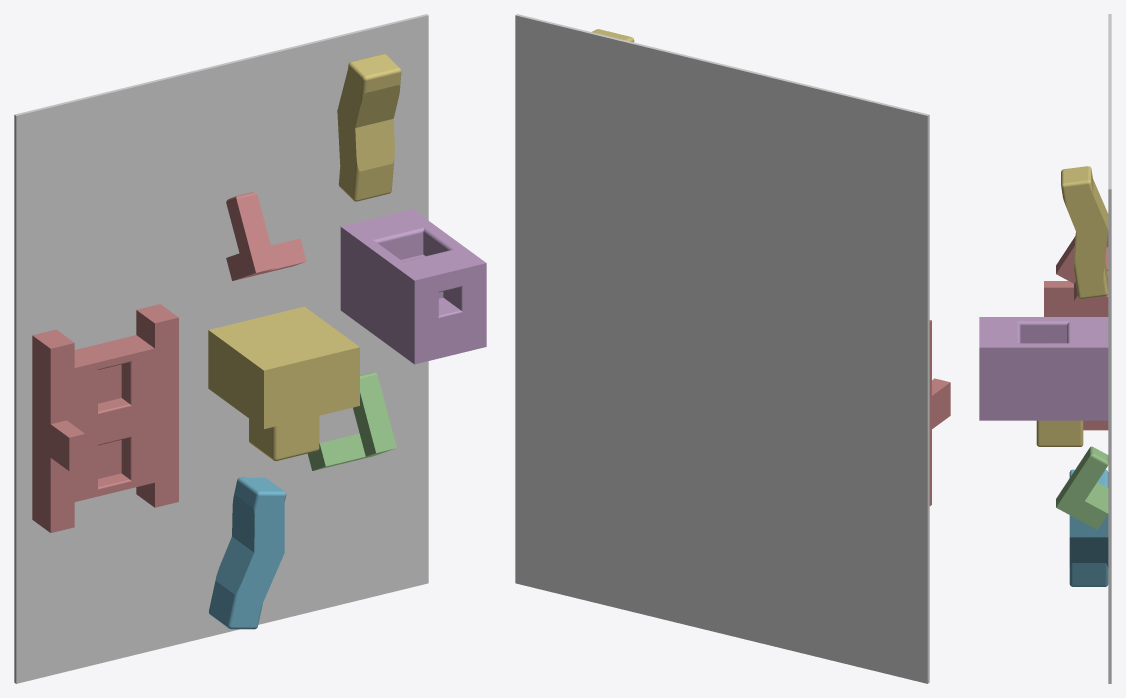
Rendered from pickup_layout.glb.
3 views of the same model, side by side, from view 1: azimuth 30°, elevation 25°; view 2: azimuth 150°, elevation 25°; view 3: azimuth 270°, elevation 25° (orthographic). The views are drawn at different scales.
Parts seen in each view (by area): view 1: world, 0.obj, 3.obj, 6.obj, 2.obj, 1.obj, 5.obj, 4.obj; view 2: world, 0.obj; view 3: 3.obj, 1.obj, 4.obj, 2.obj, world, 0.obj, 6.obj, 5.obj.
Boxes of the visible parts, x1,y1,x2,y2 form: world: (14, 14, 428, 683); 0.obj: (32, 304, 178, 532); 3.obj: (340, 209, 486, 364); 6.obj: (208, 306, 359, 461); 2.obj: (209, 477, 286, 629); 1.obj: (337, 54, 401, 201); 5.obj: (226, 192, 306, 280); 4.obj: (308, 372, 396, 470); world: (515, 14, 929, 683); 0.obj: (929, 320, 950, 505); 3.obj: (979, 317, 1108, 420); 1.obj: (1061, 166, 1108, 298); 4.obj: (1056, 446, 1108, 529); 2.obj: (1069, 469, 1108, 586); world: (1108, 14, 1111, 683); 0.obj: (1044, 232, 1108, 430); 6.obj: (1036, 420, 1083, 446); 5.obj: (1056, 236, 1108, 313).
Bounding box in the file's own units: 25.75 × 33.89 × 8.2.
